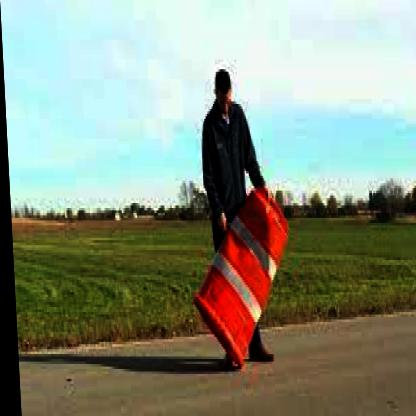obstacle: (189, 188, 292, 376)
